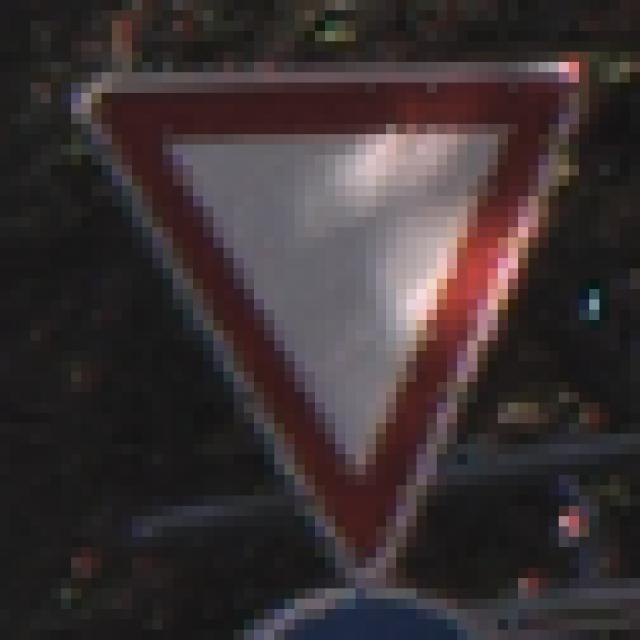Give Way: (62, 53, 590, 590)
